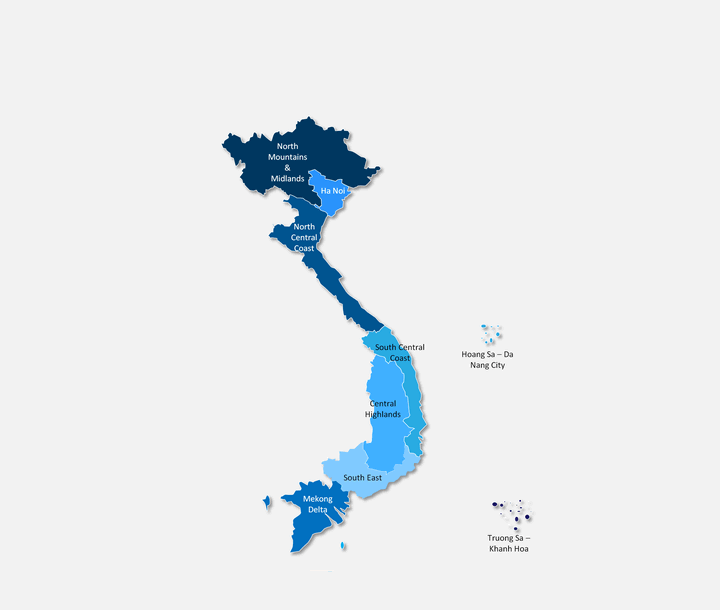Island: (483, 491, 545, 557), (459, 316, 518, 379)
